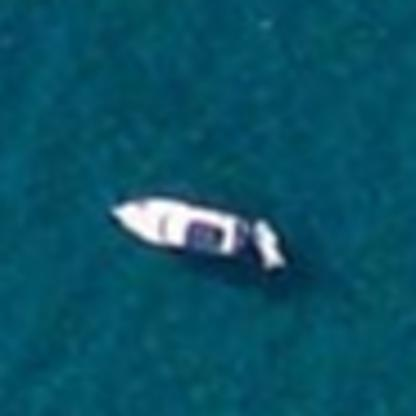ship: (101, 187, 293, 280)
